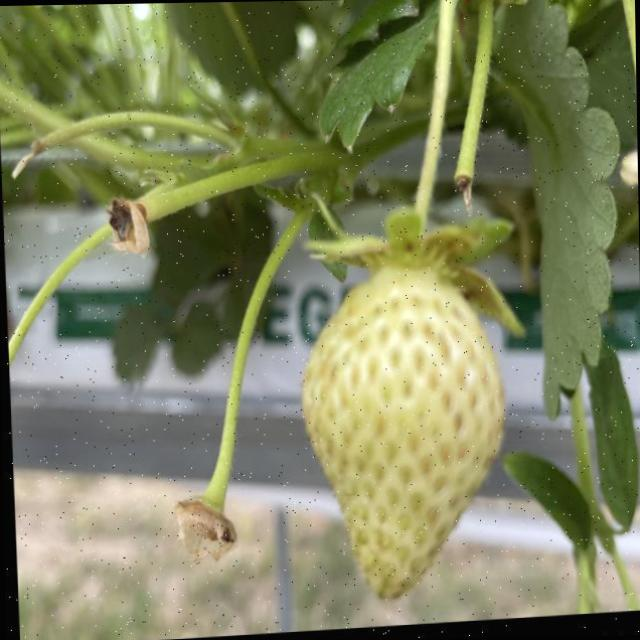stem: (309, 0, 521, 333)
strawberryNR: (302, 267, 503, 598)
